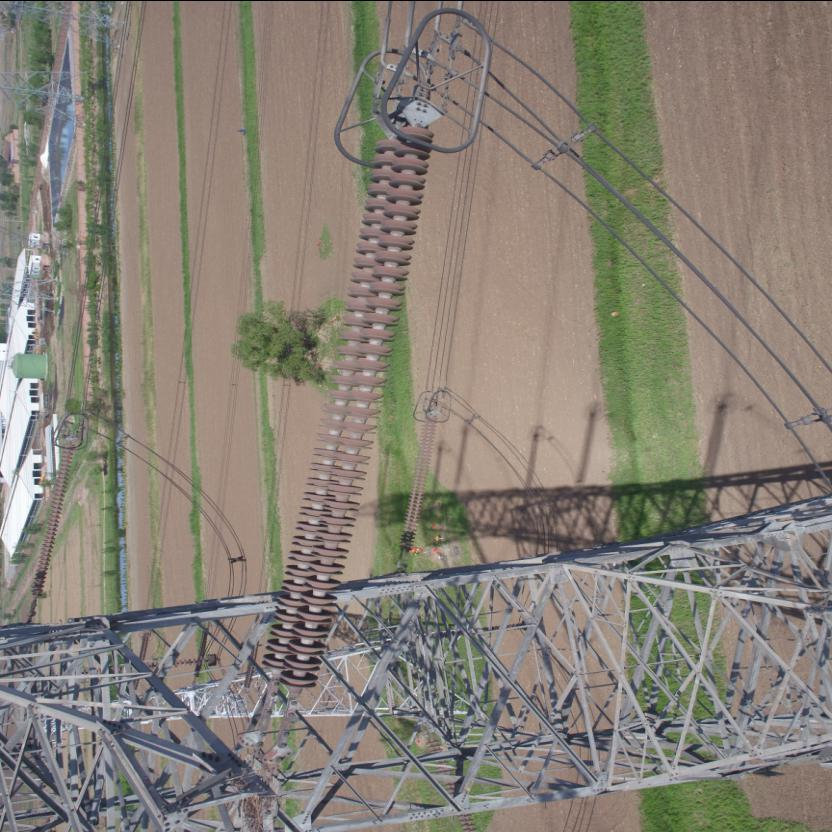insulator: (255, 118, 435, 716), (27, 439, 77, 606), (394, 412, 438, 556)
